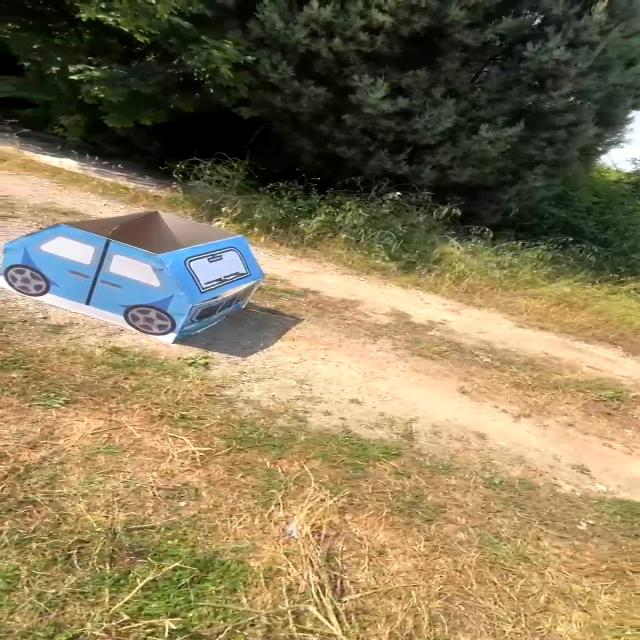blue_car: (0, 175, 277, 352)
